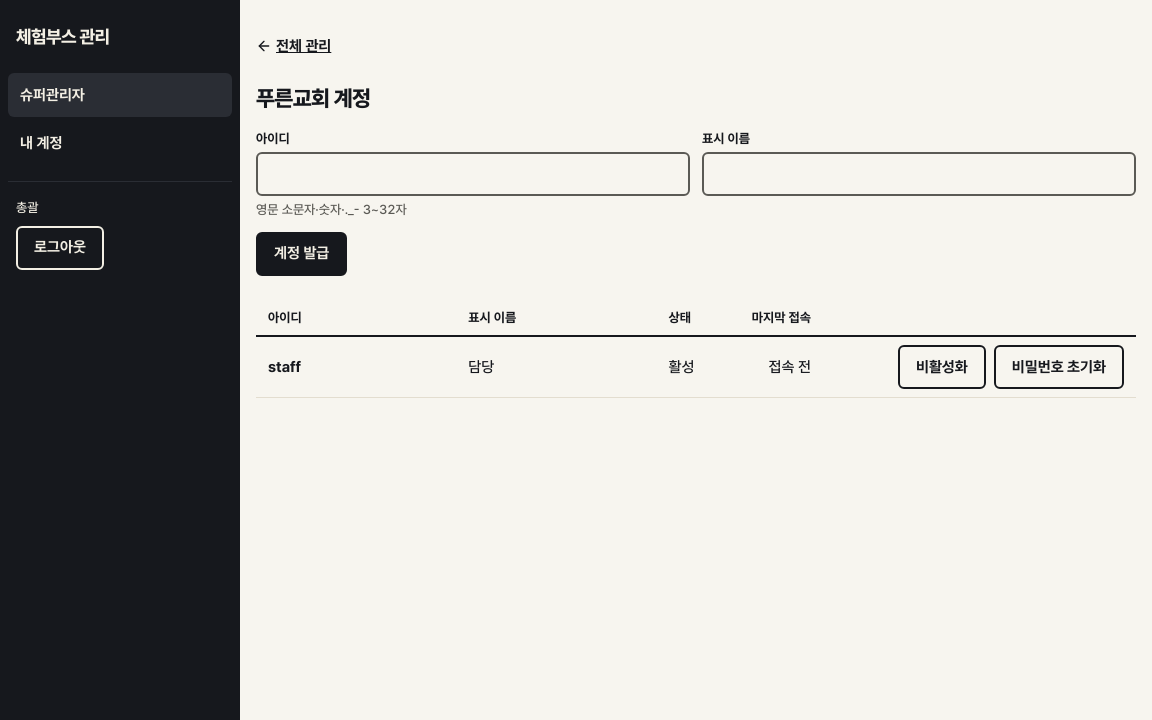
Test case: 기관별 화면 › 기관 목록 재조회가 실패해도 표시 중인 임시 비밀번호를 잃지 않는다
Click the button with aria-label "staff 비밀번호 초기화" at [1059, 367], box [994,345,1124,389]
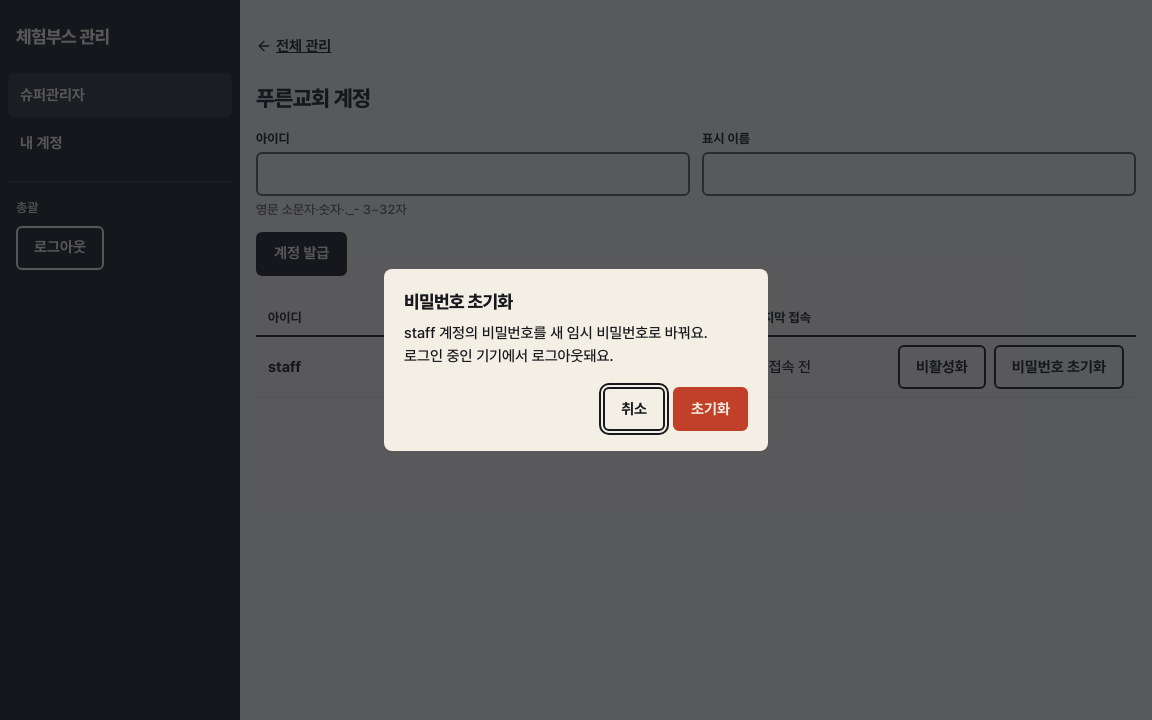
Click the button "초기화" at [711, 409], box [673,387,748,431]
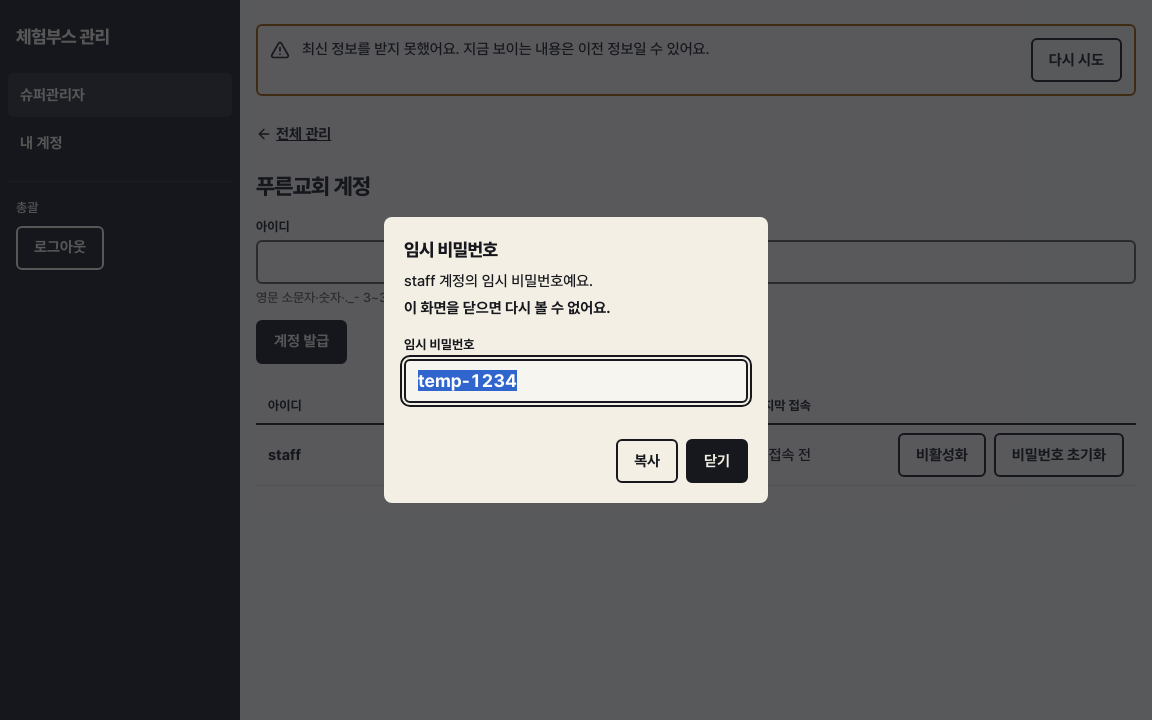
Now the text "최신 정보를 받지 못했어요. 지금 보이는 내용은 이전 정보일 수 있어요." is shown, box [302,40,710,58]
Now the field showing "temp-1234" is shown, box [404,359,748,403]
